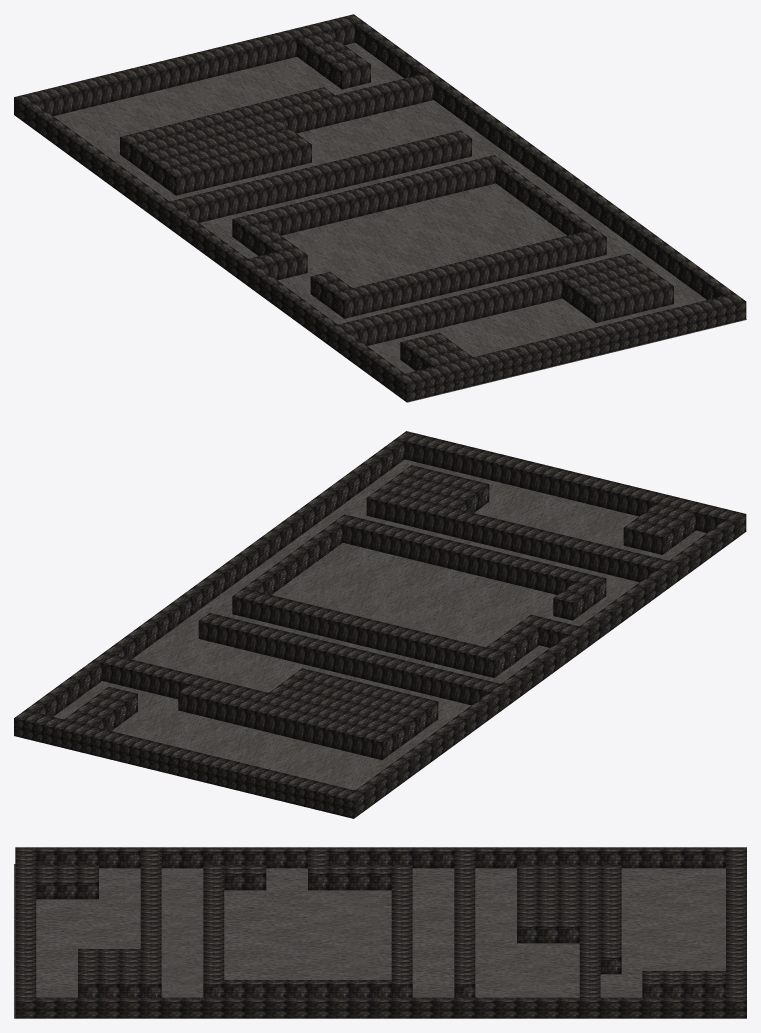
File: map_2.FBX
3 views of the same model, one above another, from view 1: azimuth 30°, elevation 25°; view 2: azimuth 150°, elevation 25°; view 3: azimuth 270°, elevation 25° (orthographic). The views are drawn at different scales.
Parts seen in each view (by area): view 1: Box001, Plane001; view 2: Box001, Plane001; view 3: Box001, Plane001.
Boxes of the visible parts, <box> form: Box001: <box>14,14,746,401</box>; Plane001: <box>53,42,746,402</box>; Box001: <box>14,431,746,818</box>; Plane001: <box>53,459,746,790</box>; Box001: <box>15,847,746,1018</box>; Plane001: <box>14,864,725,1018</box>.
Size of the model in its own units: 100 by 5 by 200.
Materials: 2 (2 with a texture image).
